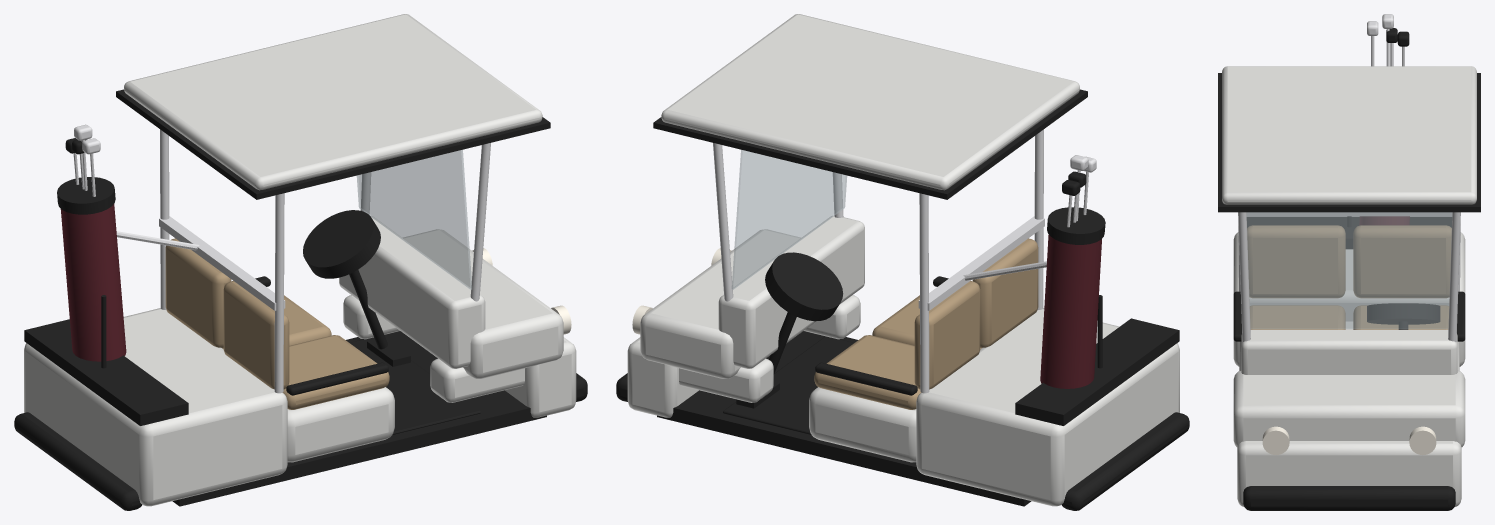
File: SM_Buggy_Body.fbx
The picture shows the model from 3 angles, left to right: view 1: azimuth 30°, elevation 25°; view 2: azimuth 150°, elevation 25°; view 3: azimuth 270°, elevation 25°; orthographic projection. The views are drawn at different scales.
Visible parts, largest first — view 1: SM_Buggy_Body; view 2: SM_Buggy_Body; view 3: SM_Buggy_Body.
Boxes of the visible parts, left/top/right/bottom form: SM_Buggy_Body: left=14, top=14, right=587, bottom=510; SM_Buggy_Body: left=616, top=14, right=1189, bottom=510; SM_Buggy_Body: left=1218, top=14, right=1480, bottom=510.
Bounding box in the file's own units: 2.6 × 1.74 × 1.36.
